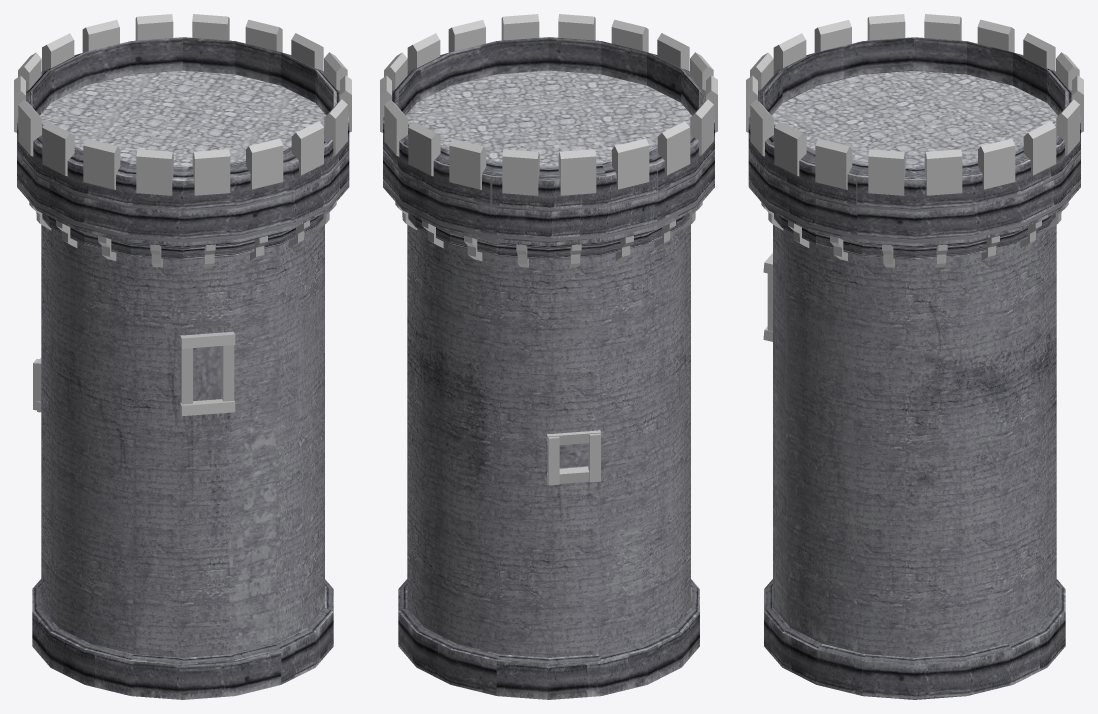
Rendered from tower.FBX.
The picture shows the model from 3 angles, left to right: view 1: azimuth 30°, elevation 25°; view 2: azimuth 150°, elevation 25°; view 3: azimuth 270°, elevation 25°; orthographic projection.
Parts seen in each view (by area): view 1: Box028, Object015, Object017, Object016; view 2: Box028, Object015, Object017, Object016; view 3: Box028, Object015, Object016, Object017.
Boxes of the visible parts, x1=… form: Box028: x1=17, y1=37, x2=349, y2=699; Object015: x1=14, y1=14, x2=351, y2=195; Object017: x1=33, y1=331, x2=235, y2=416; Object016: x1=29, y1=201, x2=336, y2=267; Box028: x1=383, y1=37, x2=714, y2=699; Object015: x1=380, y1=14, x2=717, y2=195; Object017: x1=547, y1=430, x2=601, y2=485; Object016: x1=395, y1=201, x2=702, y2=267; Box028: x1=748, y1=37, x2=1080, y2=699; Object015: x1=746, y1=14, x2=1083, y2=195; Object016: x1=761, y1=202, x2=1068, y2=267; Object017: x1=763, y1=253, x2=772, y2=341.
Size of the model in its own units: 61.17 by 60.95 by 110.
